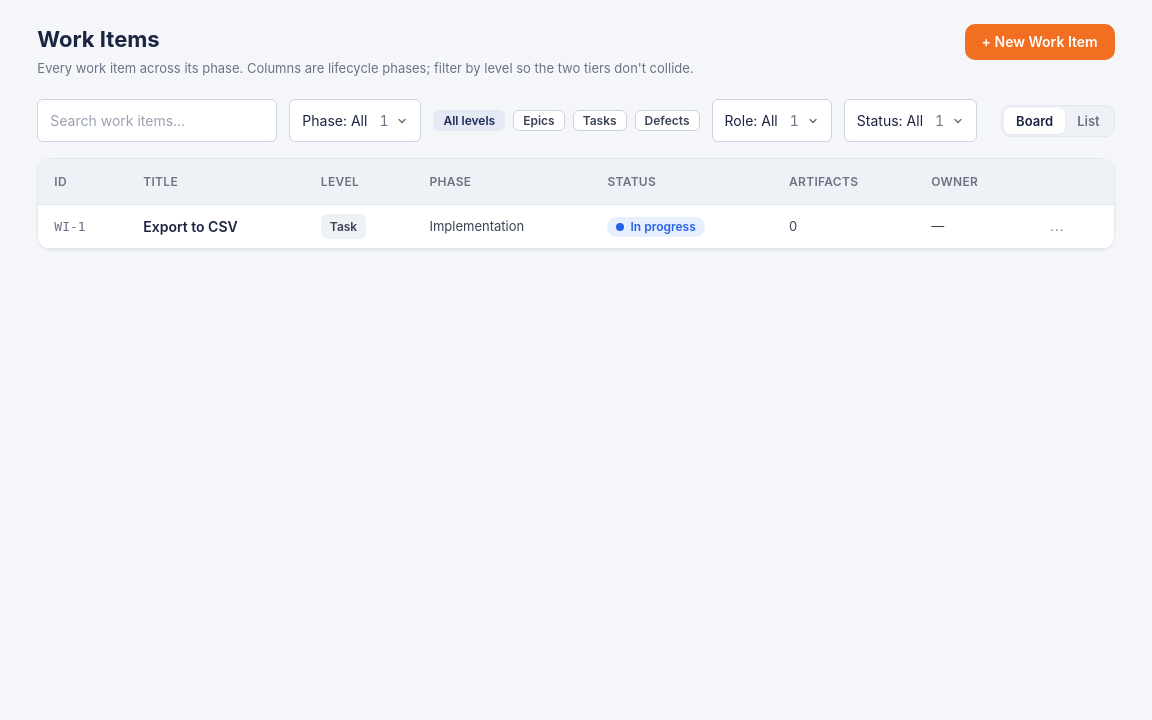
Scenario: the list view's row menu › offers Cancel on a live row, and opens the dialog
Click the button named "Actions for WI-1" at (1057, 226), box left=1042, top=218, right=1072, bottom=235
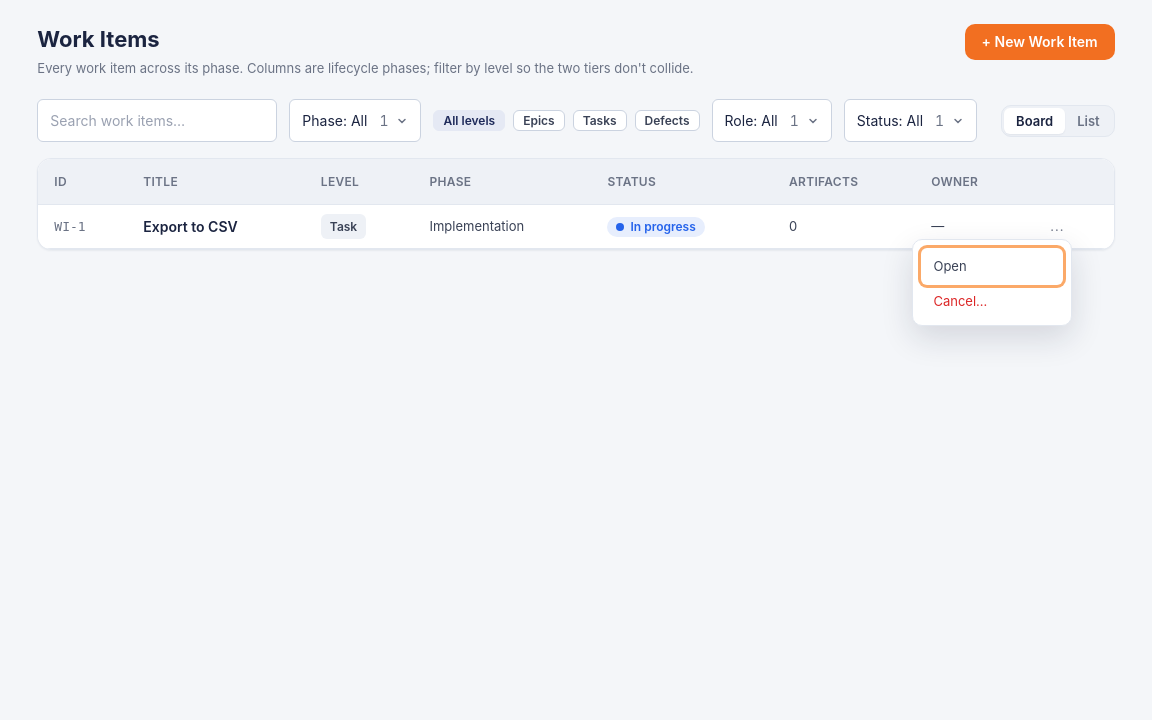
Click the menu item "Cancel…" at (992, 301), box left=921, top=285, right=1063, bottom=317
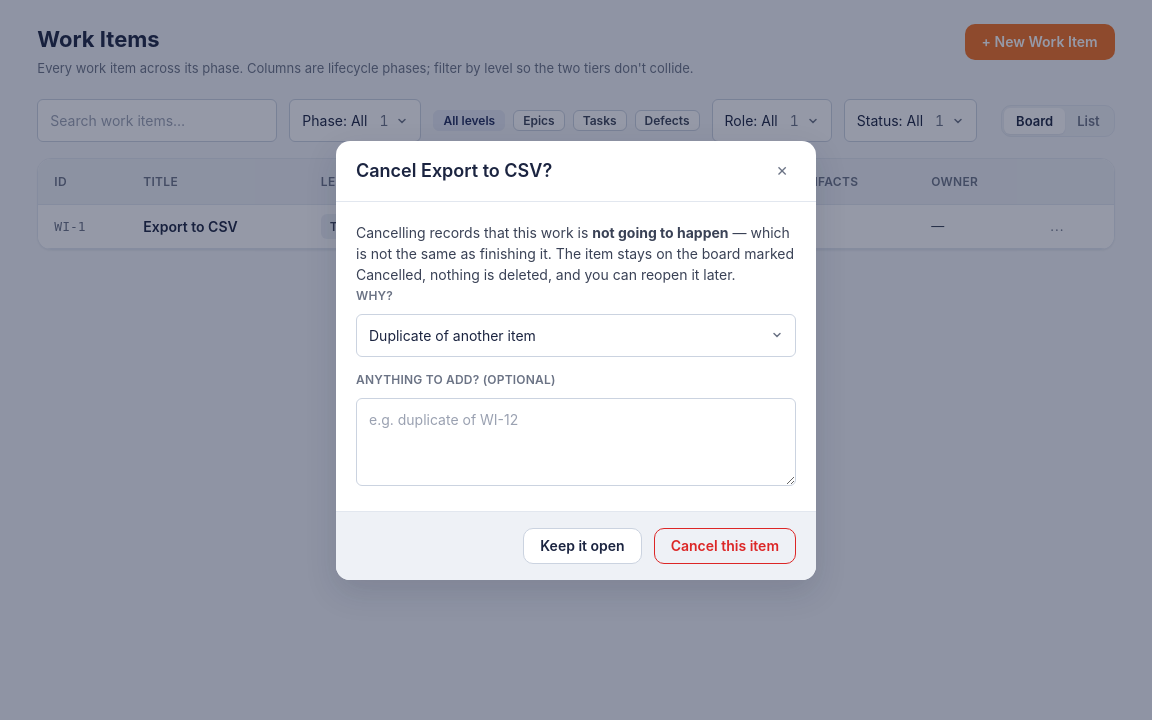
Now the heading "Cancel Export to CSV?" is shown, box left=356, top=160, right=552, bottom=181
